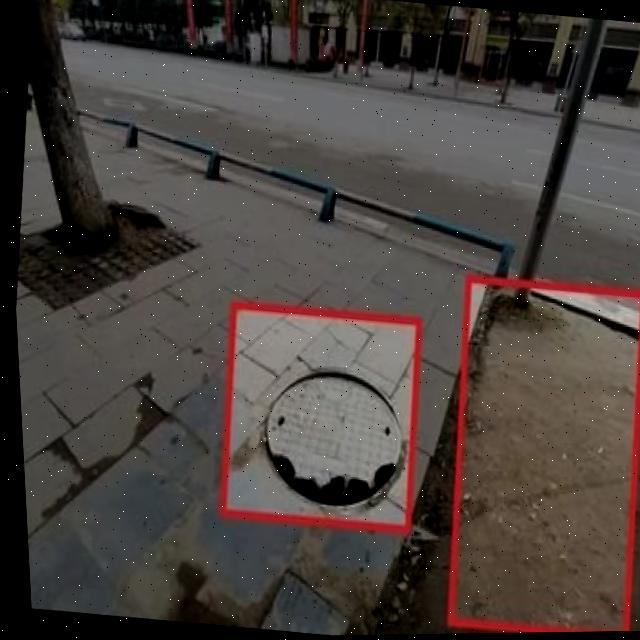manhole: (245, 357, 408, 516)
